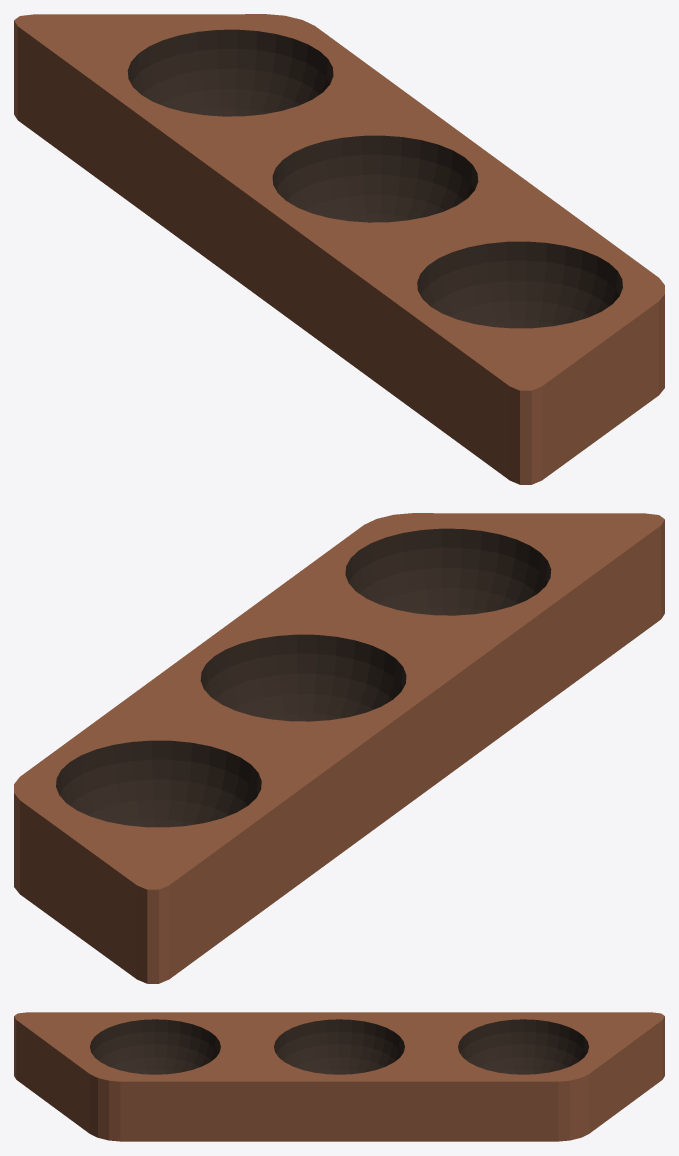
Rendered from Triangular Cannon Ball Holder 3 Ball.fbx.
The picture shows the model from 3 angles, top to bottom: view 1: azimuth 30°, elevation 25°; view 2: azimuth 150°, elevation 25°; view 3: azimuth 270°, elevation 25°; orthographic projection. The views are drawn at different scales.
Parts seen in each view (by area): view 1: Triangular Cannon Ball Holder 3 Ball; view 2: Triangular Cannon Ball Holder 3 Ball; view 3: Triangular Cannon Ball Holder 3 Ball.
Part boxes in pixels (bbox=[...]): Triangular Cannon Ball Holder 3 Ball: bbox=[14, 14, 664, 484]; Triangular Cannon Ball Holder 3 Ball: bbox=[14, 513, 664, 983]; Triangular Cannon Ball Holder 3 Ball: bbox=[14, 1012, 664, 1141].
Bounding box in the file's own units: 250 × 101 × 993.
